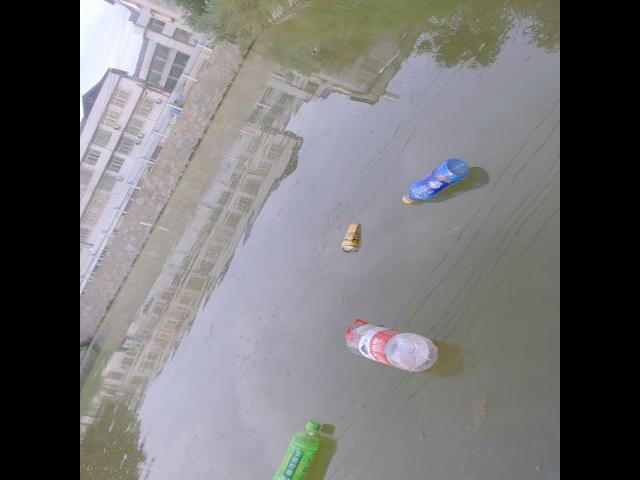Bottle: (343, 315, 442, 377), (398, 146, 474, 212), (263, 417, 329, 480)
Can: (339, 218, 367, 256)
